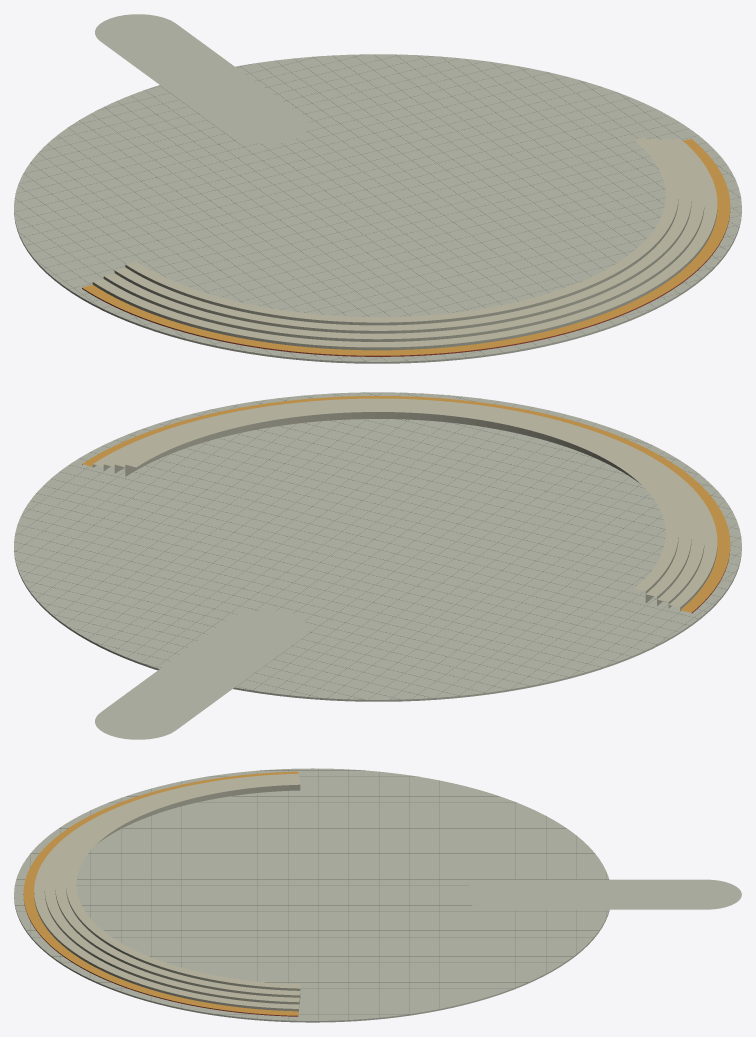
Rendered from axial_amphitheatre.glb.
3 views of the same model, one above another, from view 1: azimuth 30°, elevation 25°; view 2: azimuth 150°, elevation 25°; view 3: azimuth 270°, elevation 25° (orthographic). The views are drawn at different scales.
Parts seen in each view (by area): view 1: CircularStonePlaza, CurvedTieredStoneSeats, PlazaStoneTileJoints, CircularPlazaEntry, CrescentSeatVerticalRisers; view 2: CircularStonePlaza, CurvedTieredStoneSeats, PlazaStoneTileJoints, CircularPlazaEntry, CrescentSeatVerticalRisers; view 3: CircularStonePlaza, CurvedTieredStoneSeats, PlazaStoneTileJoints, CircularPlazaEntry, CrescentSeatVerticalRisers.
Boxes of the visible parts, left/top/right/bottom form: CircularStonePlaza: left=14, top=54, right=741, bottom=363; CurvedTieredStoneSeats: left=82, top=137, right=730, bottom=355; PlazaStoneTileJoints: left=14, top=54, right=741, bottom=361; CircularPlazaEntry: left=95, top=14, right=308, bottom=143; CrescentSeatVerticalRisers: left=82, top=199, right=730, bottom=356; CircularStonePlaza: left=14, top=392, right=741, bottom=701; CurvedTieredStoneSeats: left=82, top=396, right=730, bottom=612; PlazaStoneTileJoints: left=15, top=392, right=741, bottom=699; CircularPlazaEntry: left=95, top=610, right=308, bottom=739; CrescentSeatVerticalRisers: left=82, top=412, right=730, bottom=613; CircularStonePlaza: left=14, top=768, right=609, bottom=1022; CurvedTieredStoneSeats: left=23, top=771, right=300, bottom=1015; PlazaStoneTileJoints: left=15, top=768, right=608, bottom=1020; CircularPlazaEntry: left=462, top=879, right=741, bottom=909; CrescentSeatVerticalRisers: left=23, top=784, right=300, bottom=1016.
Size of the model in its own units: 63 by 1.38 by 76.75.
